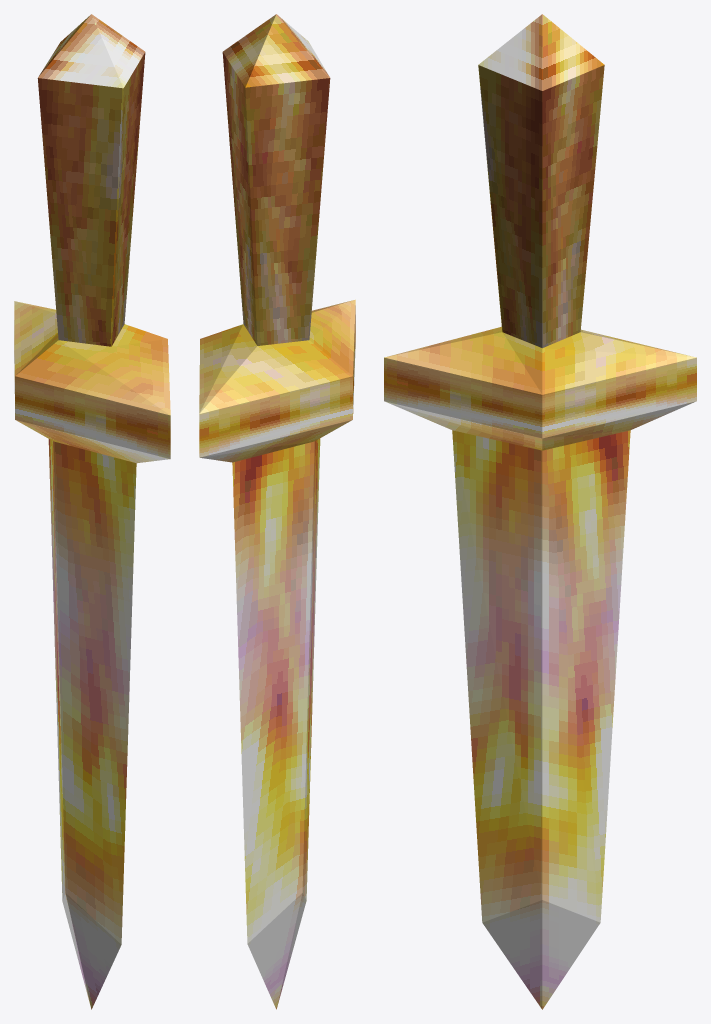
File: twinblade00_3.obj
3 renders of one model, left to right at view 1: azimuth 30°, elevation 25°; view 2: azimuth 150°, elevation 25°; view 3: azimuth 270°, elevation 25°, orthographic.
Visible parts, largest first — view 1: cwdhsw00_3l; view 2: cwdhsw00_3l; view 3: cwdhsw00_3l.
Part boxes in pixels (box(x1,y1,x2,y2)): cwdhsw00_3l: box(14, 14, 170, 1009); cwdhsw00_3l: box(199, 14, 355, 1009); cwdhsw00_3l: box(384, 14, 696, 1009).
Size of the model in its own units: 0.11 by 0.685 by 0.195.
